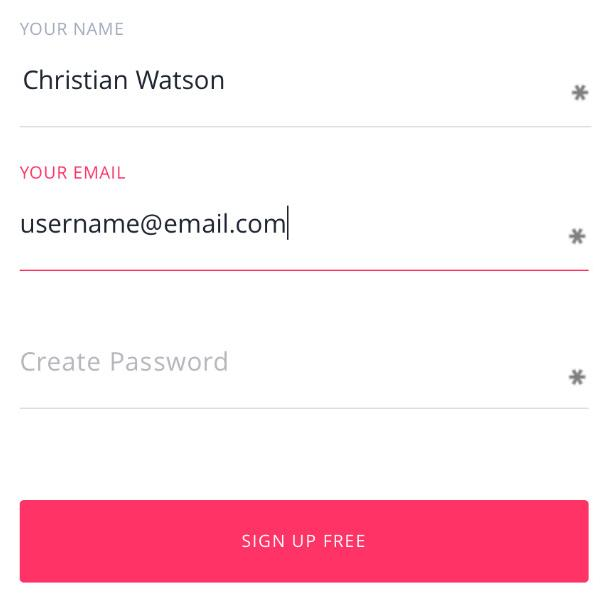button: (19, 498, 590, 585)
